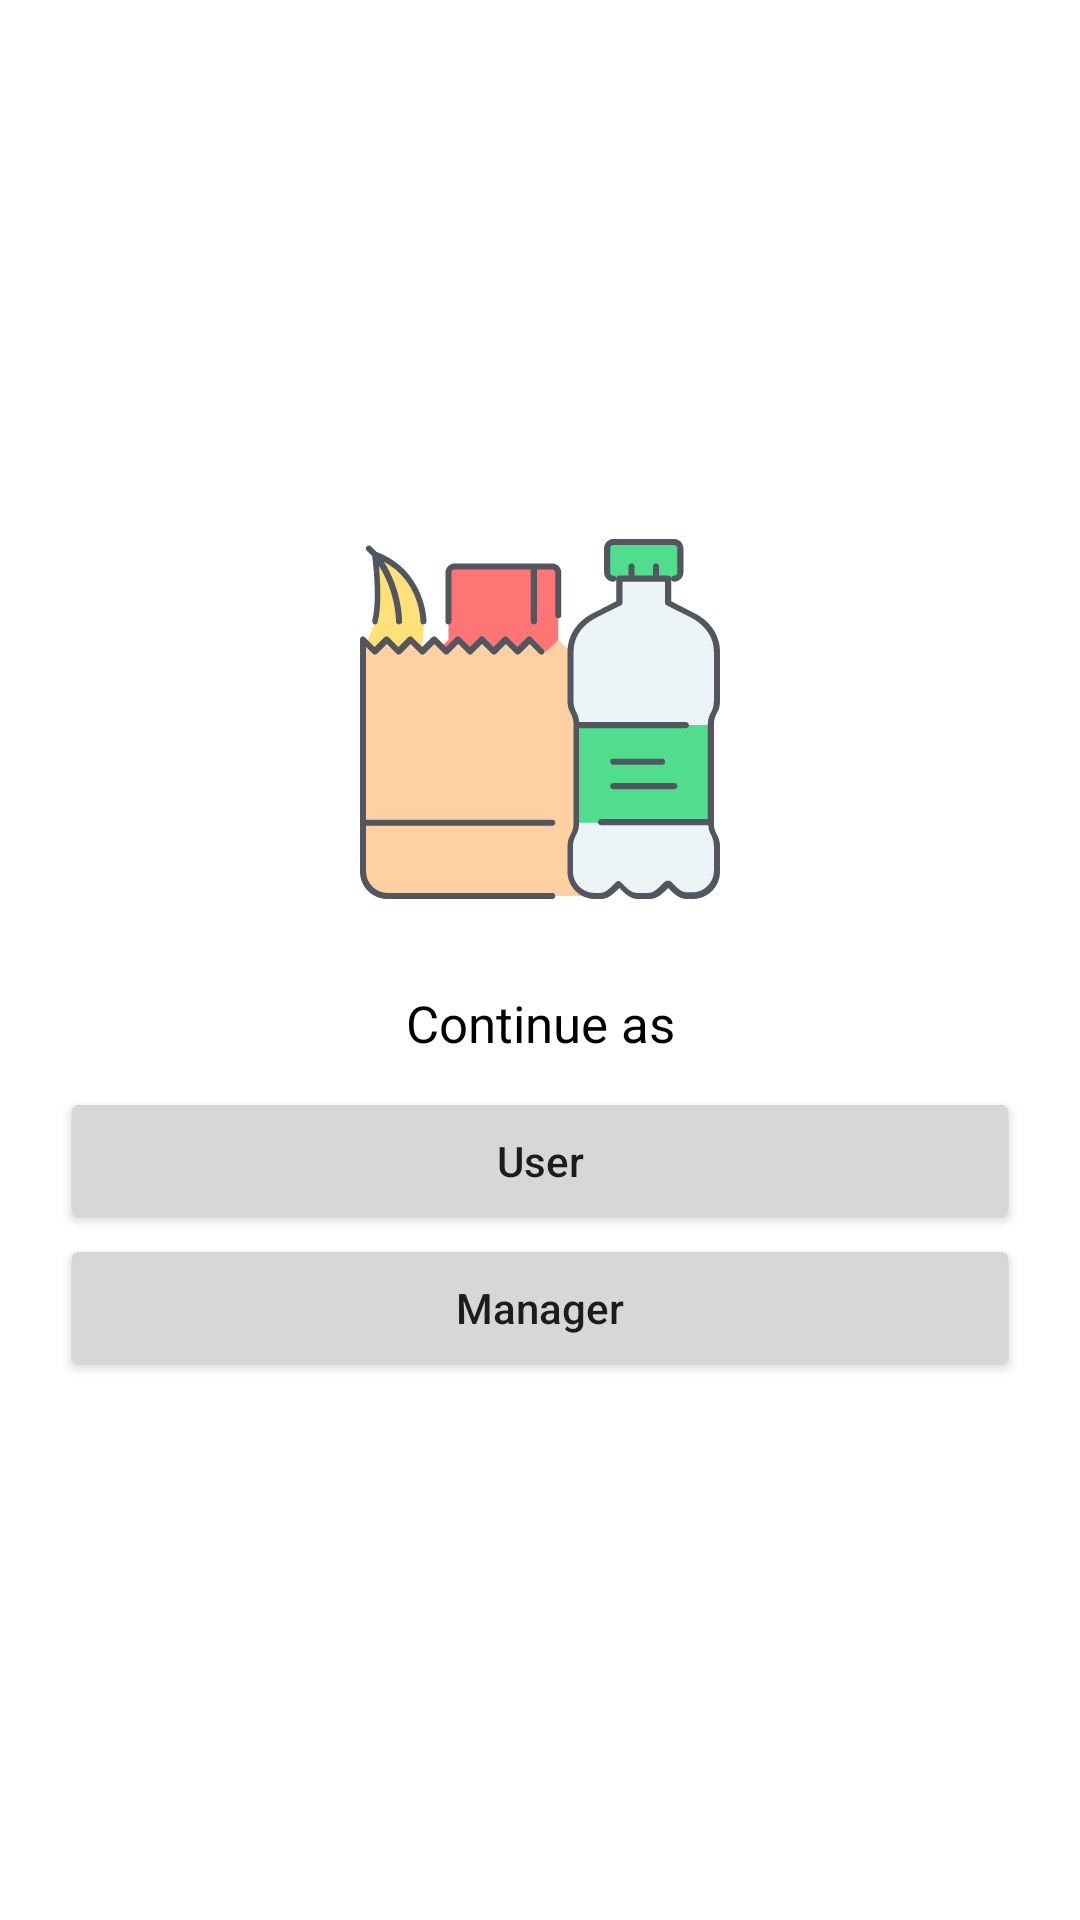

Point at icon controls on the screen. Image size 1080px×1920px, points as (x=x, y=y).
grocery: (x=540, y=719)
